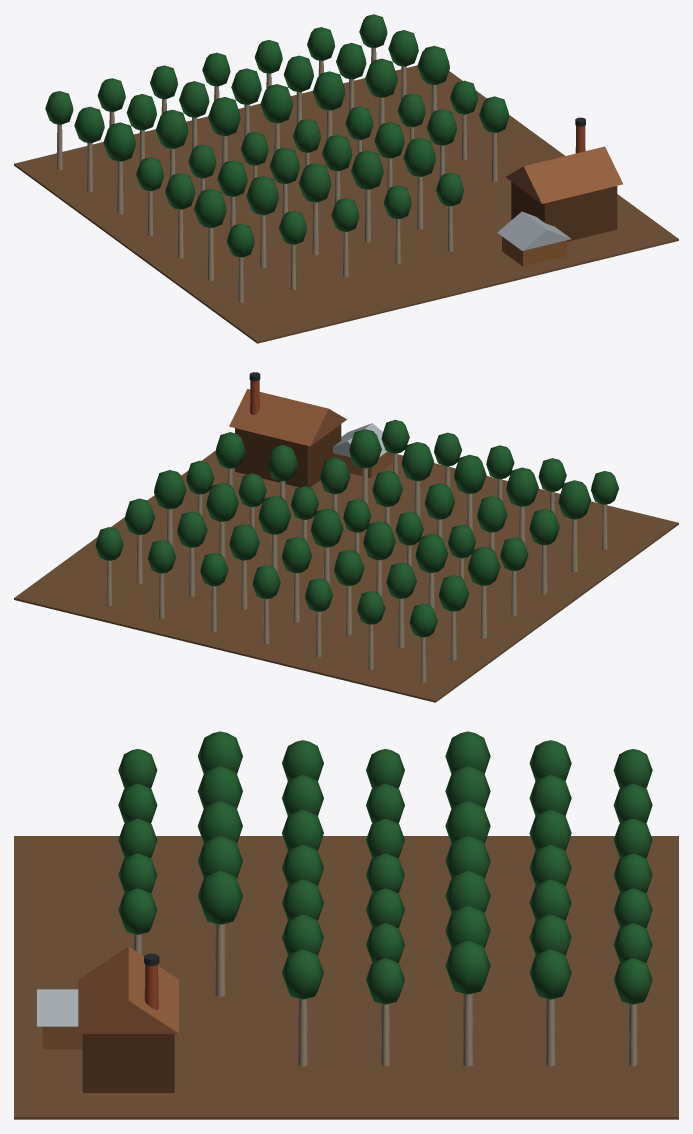
Rendered from building_estet_getah.glb.
3 renders of one model, top to bottom at view 1: azimuth 30°, elevation 25°; view 2: azimuth 150°, elevation 25°; view 3: azimuth 270°, elevation 25°, orthographic. The views are drawn at different scales.
Visible parts, largest first — view 1: building_estet_getah; view 2: building_estet_getah; view 3: building_estet_getah.
Boxes of the visible parts, x1,y1,x2,y2 form: building_estet_getah: (14, 14, 678, 343); building_estet_getah: (14, 372, 678, 702); building_estet_getah: (14, 731, 678, 1119).
Bounding box in the file's own units: 2.9 × 0.63 × 2.9.
